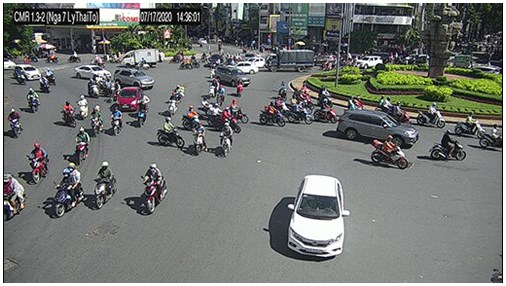xe_hoi: (286, 176, 351, 259), (336, 110, 419, 147), (114, 68, 155, 89), (214, 66, 250, 86), (73, 64, 111, 79), (11, 63, 41, 80), (225, 60, 259, 74), (356, 55, 382, 68)
xe_may: (54, 162, 86, 218), (138, 163, 167, 217), (368, 134, 408, 170), (426, 129, 466, 162), (92, 159, 116, 209), (2, 174, 25, 220), (25, 141, 50, 183), (155, 116, 185, 148), (453, 111, 487, 139), (415, 103, 445, 128), (215, 106, 242, 133), (476, 123, 502, 151), (258, 101, 285, 127), (312, 98, 338, 124), (73, 127, 90, 166), (287, 100, 312, 125), (225, 99, 250, 124), (385, 101, 412, 124), (181, 105, 203, 130), (192, 121, 207, 156), (219, 120, 232, 157), (59, 100, 76, 128), (7, 107, 22, 138), (90, 104, 104, 137), (316, 83, 333, 108), (269, 95, 289, 115), (293, 88, 313, 108), (374, 94, 394, 113), (26, 86, 39, 113), (165, 91, 178, 117), (76, 93, 88, 120), (111, 107, 122, 136), (344, 95, 364, 110), (85, 77, 98, 99), (12, 66, 27, 84), (136, 99, 145, 128), (170, 84, 184, 101), (168, 50, 185, 63), (39, 73, 50, 93), (207, 78, 218, 98), (89, 54, 104, 68), (234, 77, 244, 97), (136, 56, 150, 70), (45, 68, 56, 85), (66, 50, 80, 63), (25, 50, 38, 64), (278, 79, 288, 97), (45, 51, 58, 64), (179, 57, 192, 70), (190, 55, 201, 68), (209, 65, 217, 78)
xe_tai: (263, 49, 314, 72), (119, 49, 160, 68)
